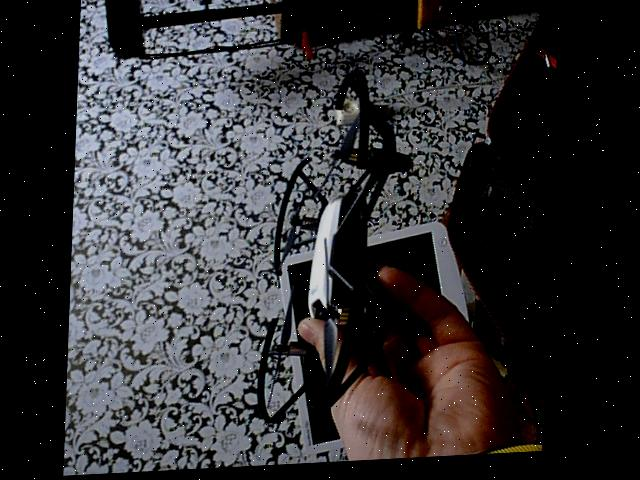drone: (241, 67, 430, 435)
